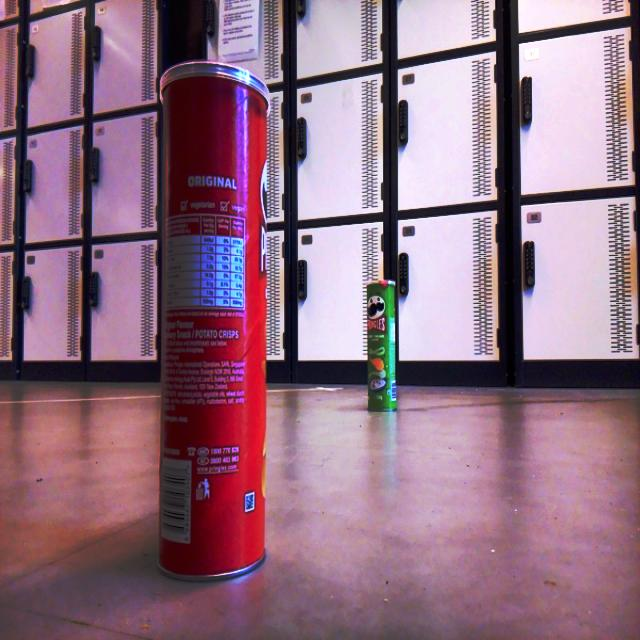greenpringles: (356, 276, 404, 421)
redpringles: (150, 44, 278, 596)
